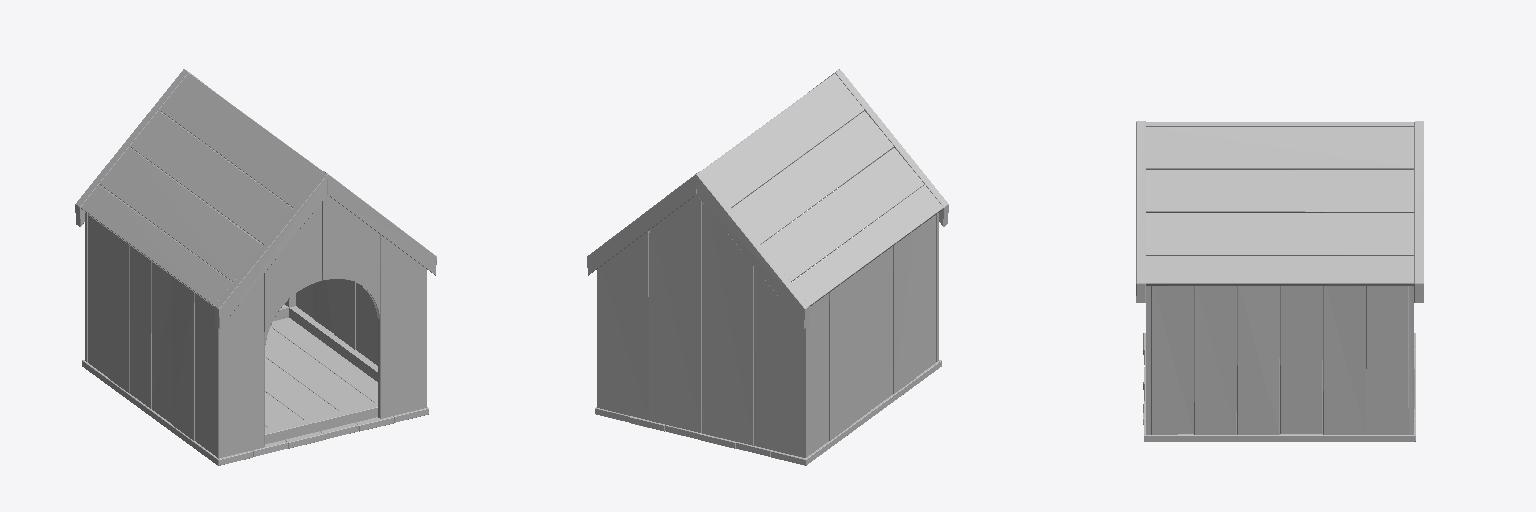
Rendered from doghouse0908.obj.
The picture shows the model from 3 angles: view 1: azimuth 30°, elevation 25°; view 2: azimuth 150°, elevation 25°; view 3: azimuth 270°, elevation 25°; orthographic projection.
Bounding box in the file's own units: 0.8482 × 1 × 0.9717.